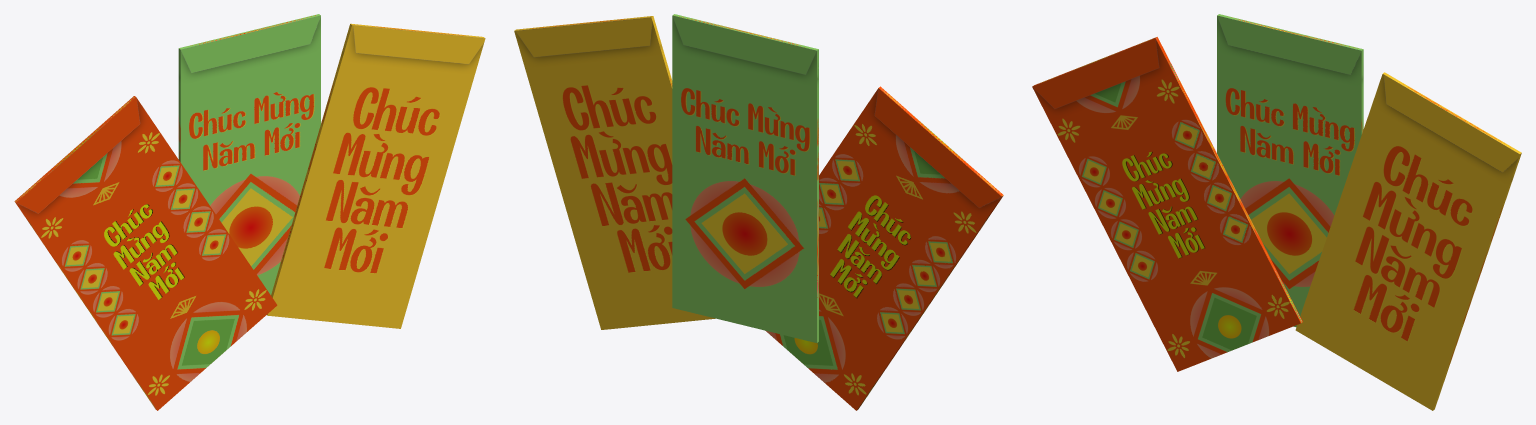
File: LuckyMoney.fbx
3 views of the same model, side by side, from view 1: azimuth 30°, elevation 25°; view 2: azimuth 150°, elevation 25°; view 3: azimuth 330°, elevation 25° (orthographic). The views are drawn at different scales.
Parts seen in each view (by area): view 1: _uckyMoney_1, MONEY_yellow, MONEY_yellow_2, MONEY_yellow_1; view 2: _uckyMoney_1, MONEY_yellow, MONEY_yellow_1, MONEY_yellow_2; view 3: _uckyMoney_1, MONEY_yellow_2, MONEY_yellow_1, MONEY_yellow.
Boxes of the visible parts, x1,y1,x2,y2 form: _uckyMoney_1: (14,14,485,405); MONEY_yellow: (178,17,320,240); MONEY_yellow_2: (15,96,174,410); MONEY_yellow_1: (267,26,482,324); _uckyMoney_1: (514,14,1003,406); MONEY_yellow: (672,15,818,342); MONEY_yellow_1: (515,18,713,321); MONEY_yellow_2: (765,87,1002,410); _uckyMoney_1: (1032,14,1521,410); MONEY_yellow_2: (1033,39,1302,367); MONEY_yellow_1: (1295,76,1520,410); MONEY_yellow: (1217,18,1363,326).
Bounding box in the file's own units: 672 × 474 × 23.96.
Materials: 3 (3 with a texture image).
